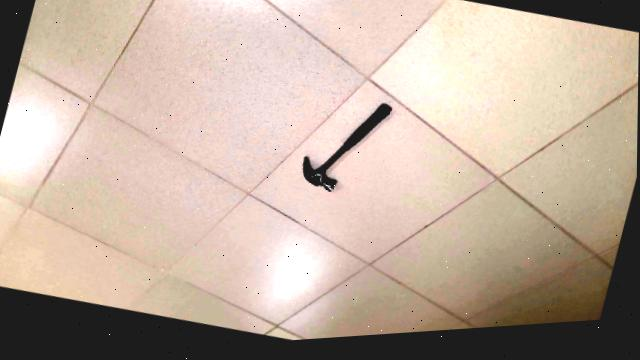hammer: (279, 86, 407, 218)
